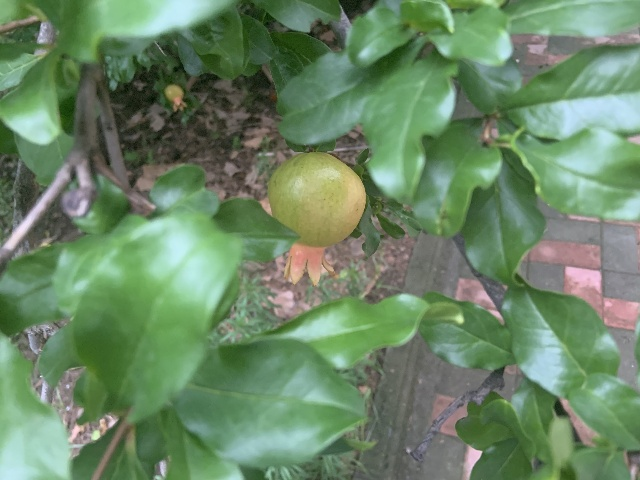mid-growth: (264, 151, 366, 286), (164, 83, 189, 112)
